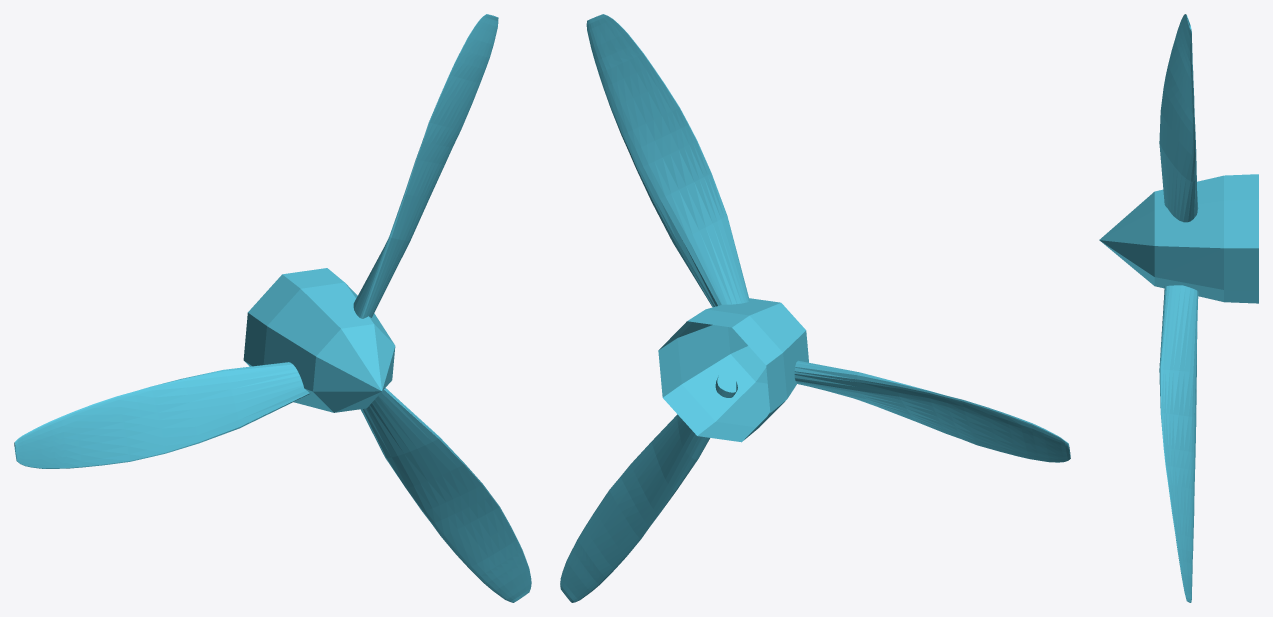
The model's file is Helix.obj.
3 renders of one model, left to right at view 1: azimuth 30°, elevation 25°; view 2: azimuth 150°, elevation 25°; view 3: azimuth 270°, elevation 25°, orthographic. The views are drawn at different scales.
Parts seen in each view (by area): view 1: HeliceE, HeliceI; view 2: HeliceE, HeliceI; view 3: HeliceE, HeliceI.
Part boxes in pixels (x1,y1,x2,y2): HeliceE: (14,14,531,602); HeliceI: (243,268,395,412); HeliceE: (560,14,1070,602); HeliceI: (658,298,808,442); HeliceE: (1159,14,1198,602); HeliceI: (1099,174,1258,303).
Size of the model in its own units: 2.23 by 2.48 by 0.6248.
